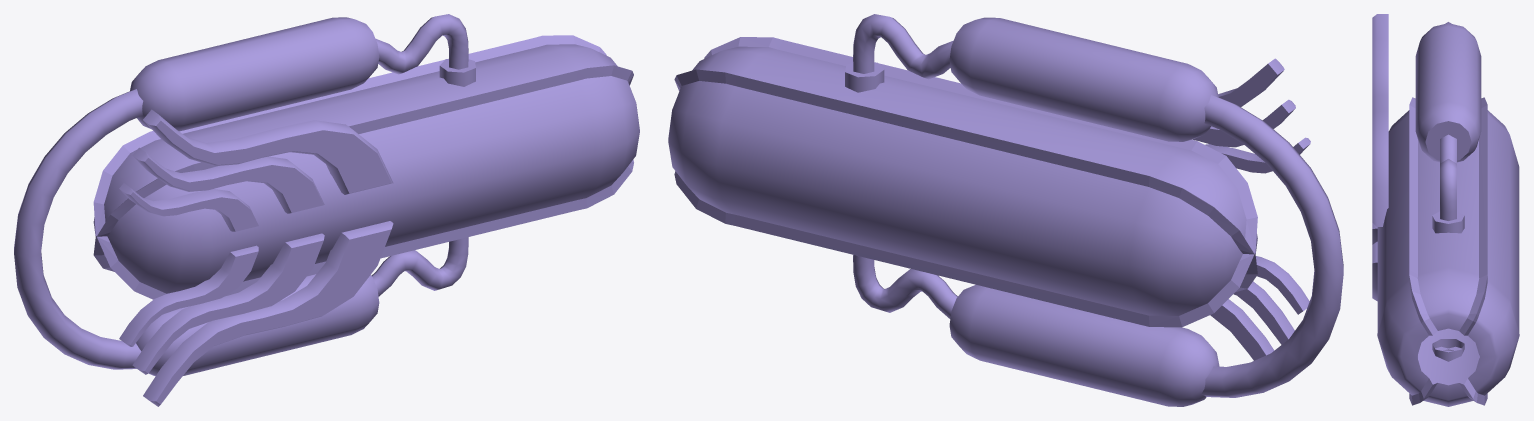
The model's file is gun_2.FBX.
3 views of the same model, side by side, from view 1: azimuth 30°, elevation 25°; view 2: azimuth 150°, elevation 25°; view 3: azimuth 270°, elevation 25° (orthographic). The views are drawn at different scales.
Visible parts, largest first — view 1: Capsule001; view 2: Capsule001; view 3: Capsule001.
Part boxes in pixels (x1,y1,x2,y2): Capsule001: (14, 14, 639, 406); Capsule001: (668, 14, 1343, 406); Capsule001: (1372, 14, 1519, 406).
Size of the model in its own units: 177 by 87.38 by 42.16.
